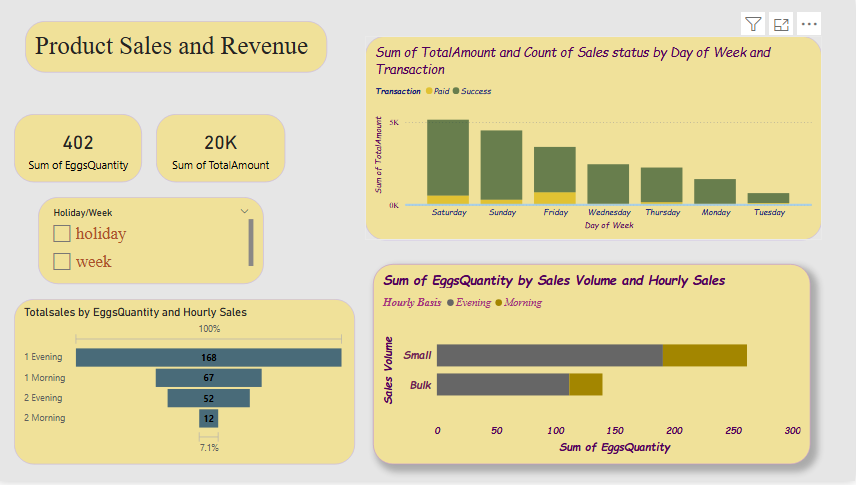

The page's visual inventory and layout, read from the dashboard file:
{"tool":"powerbi","page":{"name":"Page 1","canvas":[1280,720],"ordinal":0},"visuals":[{"type":"barChart","fields":{"Series":["Chocotale Sales Performance.Hourly Sales "],"Category":["Chocotale Sales Performance.Sales count"],"Y":["Sum(Chocotale Sales Performance.EggsQuantity)"]},"box":[561.3,395.4,653.4,299.1],"z":0},{"type":"lineStackedColumnComboChart","fields":{"Category":["Chocotale Sales Performance.Day of Week"],"Series":["Chocotale Sales Performance.Transaction"],"Y":["Sum(Chocotale Sales Performance.TotalAmount)"]},"box":[549.9,55.3,681.7,304.7],"z":1000},{"type":"card","fields":{"Values":["Sum(Kinder sales analysis.EggsQuantity)"]},"box":[25.5,171.5,191.3,102],"z":2000},{"type":"card","fields":{"Values":["Sum(Kinder sales analysis.TotalAmount)"]},"box":[236.7,171.5,192.8,102],"z":3000},{"type":"textbox","box":[42.5,32.6,450.7,76.5],"z":4000},{"type":"funnel","fields":{"Category":["Chocotale Sales Performance.EggsQuantity","Kinder sales analysis.Hourly Sales "],"Y":["Kinder sales analysis.Measure"]},"box":[25.5,447.9,508.8,246.6],"z":5000},{"type":"slicer","fields":{"Values":["Kinder sales analysis.Holiday/Week"]},"box":[60.9,294.8,337.3,130.4],"z":6000}]}

Visuals, with their boxes on the page's 1280x720 design canvas (x1, y1, x2, y2). These are canvas units, not pixel positions in the 856x485 screenshot, which may show the page scaled, cropped or inside an application window:
barChart - Chocotale Sales Performance.Hourly Sales  x Chocotale Sales Performance.Sales count: region(561, 395, 1215, 694)
lineStackedColumnComboChart - Chocotale Sales Performance.Day of Week x Chocotale Sales Performance.Transaction: region(550, 55, 1232, 360)
card - Sum(Kinder sales analysis.EggsQuantity): region(26, 172, 217, 274)
card - Sum(Kinder sales analysis.TotalAmount): region(237, 172, 430, 274)
textbox: region(42, 33, 493, 109)
funnel - Chocotale Sales Performance.EggsQuantity x Kinder sales analysis.Hourly Sales : region(26, 448, 534, 694)
slicer - Kinder sales analysis.Holiday/Week: region(61, 295, 398, 425)
